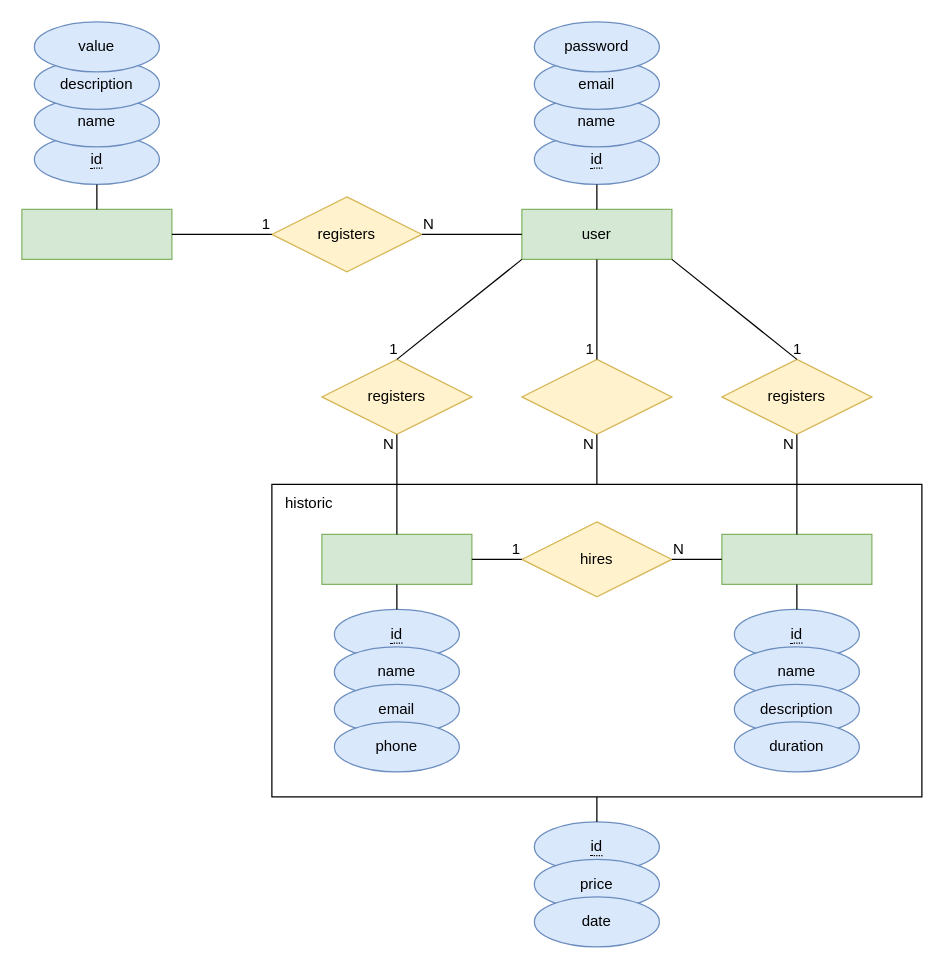
Some shapes in this 944 by 969 pixel diagram are drawn without their labels. Here are the shapes that lost their labels. From the top down, the centre of each, then its label:
At point 96,233: "exprense".
At point 596,396: "has".
At point 396,558: "client".
At point 796,558: "service".
